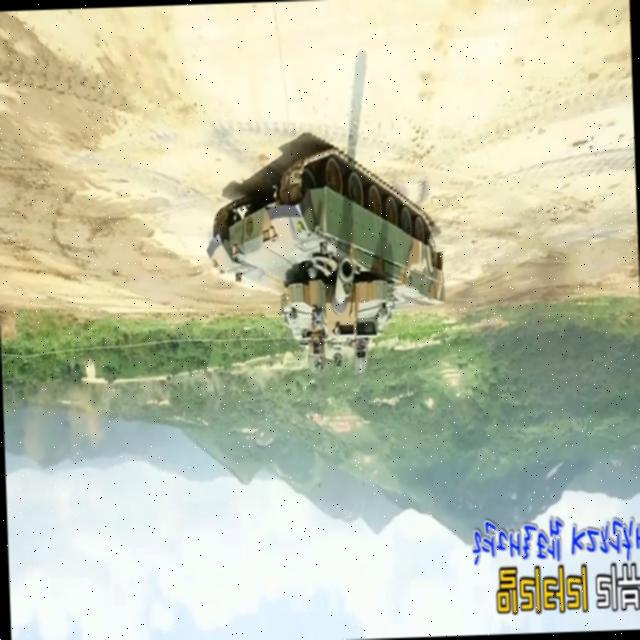korea tank: (202, 143, 449, 377)
